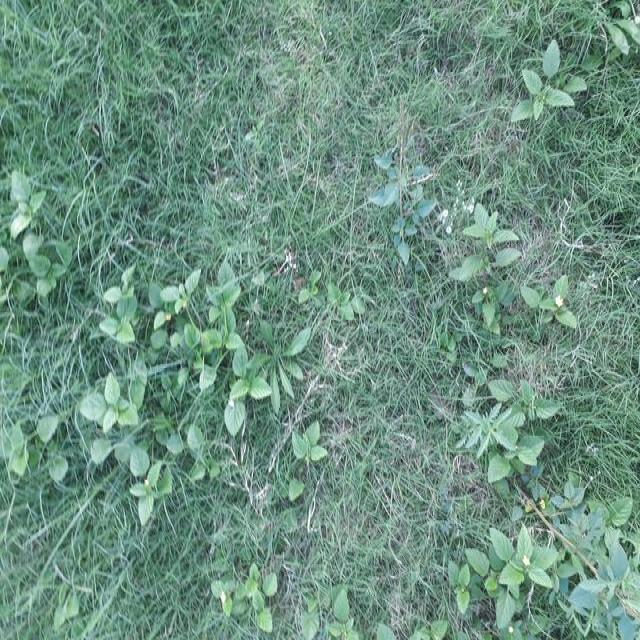weed: (56, 255, 170, 495), (146, 249, 287, 392), (441, 200, 562, 342), (536, 497, 639, 640), (443, 525, 548, 625), (449, 347, 531, 471), (0, 146, 51, 292), (280, 274, 370, 347), (514, 42, 580, 115), (272, 549, 326, 635), (374, 170, 432, 242), (264, 398, 319, 468), (602, 1, 640, 72), (208, 559, 250, 620)
